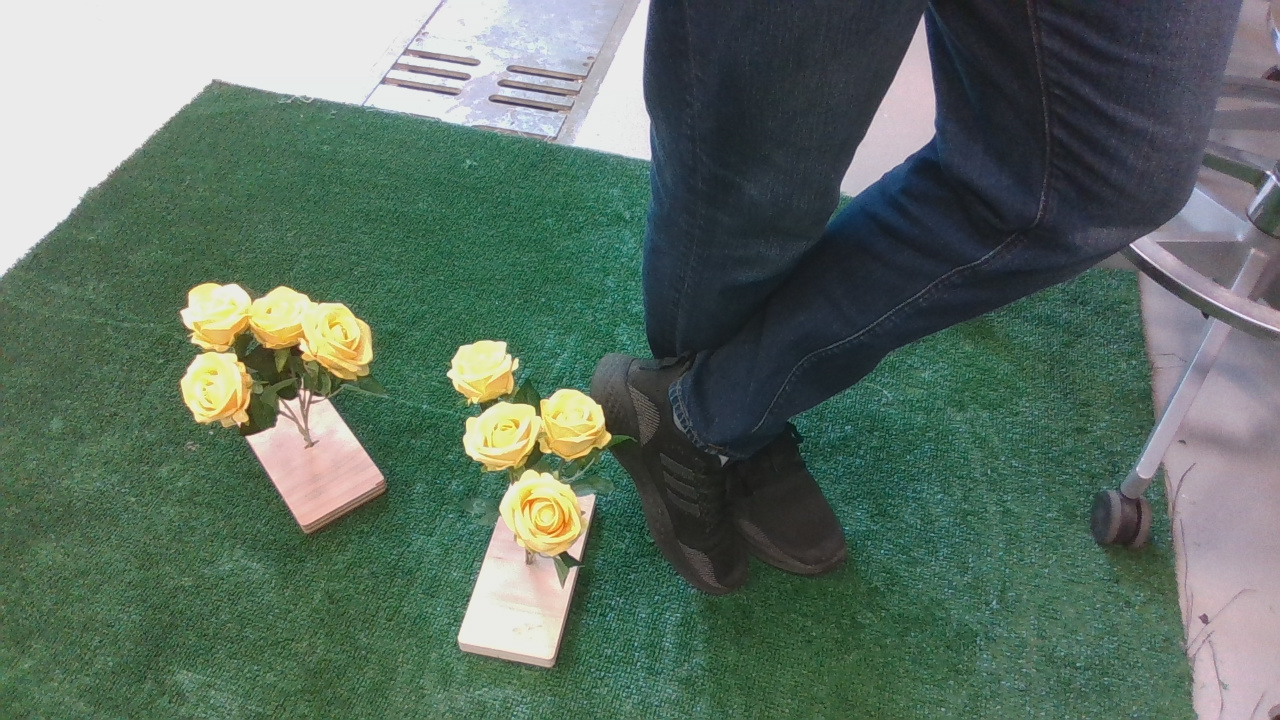rose: (444, 324, 622, 598), (156, 256, 394, 455)
